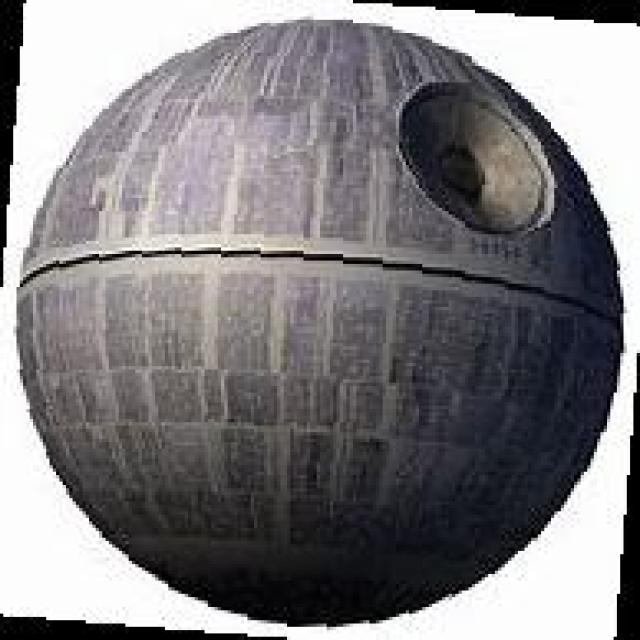Death Star: (18, 13, 625, 636)
